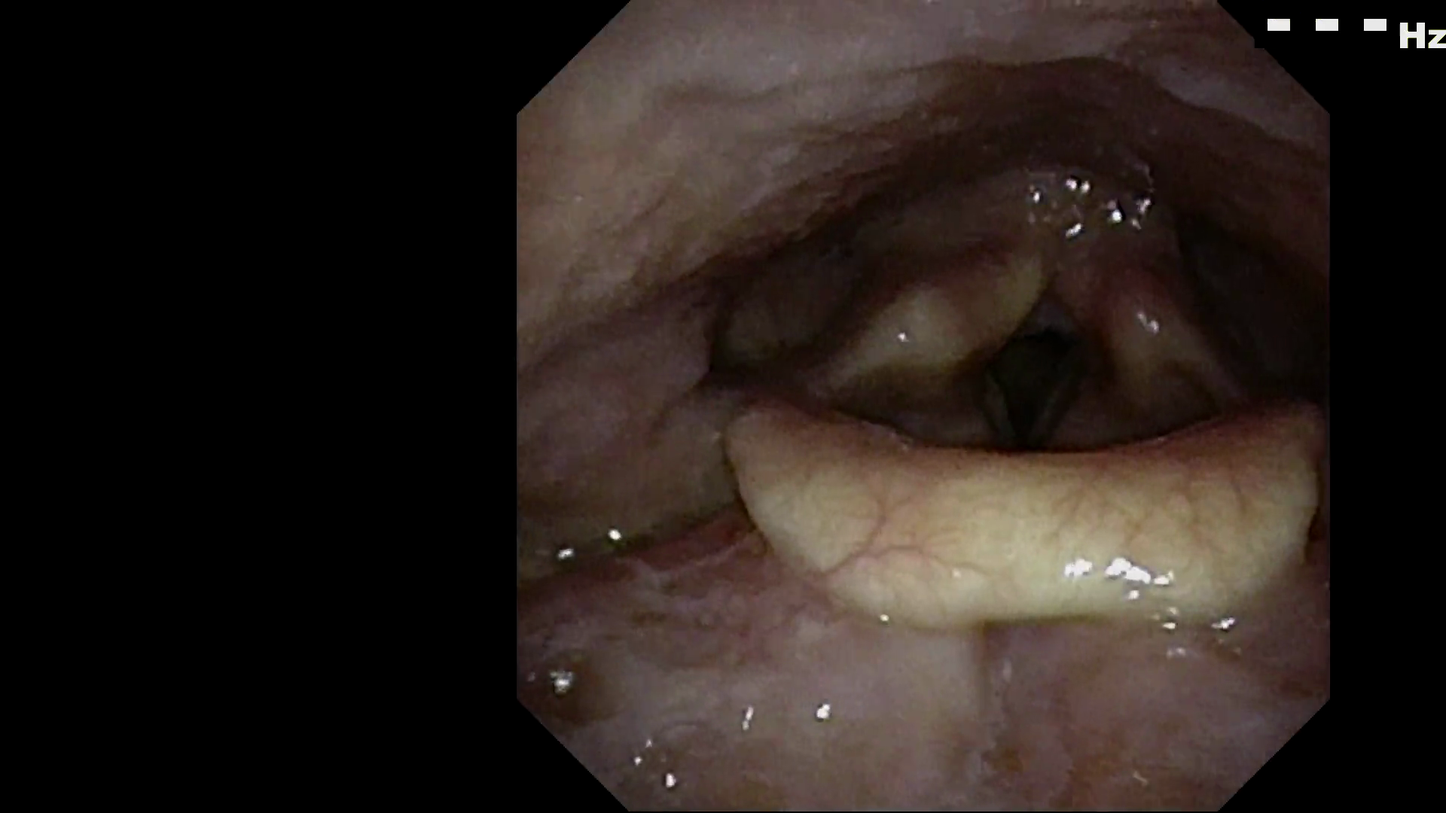epiglottis: (698, 380, 1332, 640)
trachea: (932, 297, 1112, 507)
